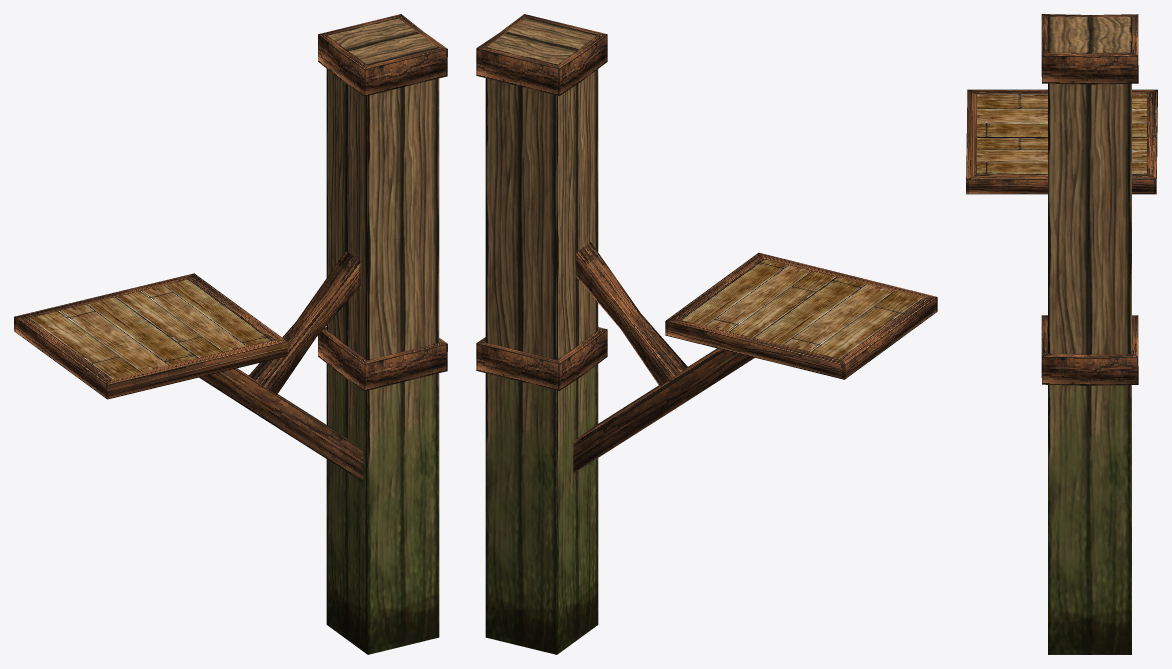
The model's file is LAKETOWN_WAREHOUSE2_PS_WH2_MILL_BASE99438__GX.obj.
3 renders of one model, left to right at view 1: azimuth 30°, elevation 25°; view 2: azimuth 150°, elevation 25°; view 3: azimuth 270°, elevation 25°, orthographic. The views are drawn at different scales.
Visible parts, largest first — view 1: l_Base99438__GX; view 2: l_Base99438__GX; view 3: l_Base99438__GX.
Part boxes in pixels (x1,y1,x2,y2): l_Base99438__GX: (14,14,447,654); l_Base99438__GX: (476,14,937,654); l_Base99438__GX: (966,14,1157,654).
Bounding box in the file's own units: 530 × 791 × 228.
